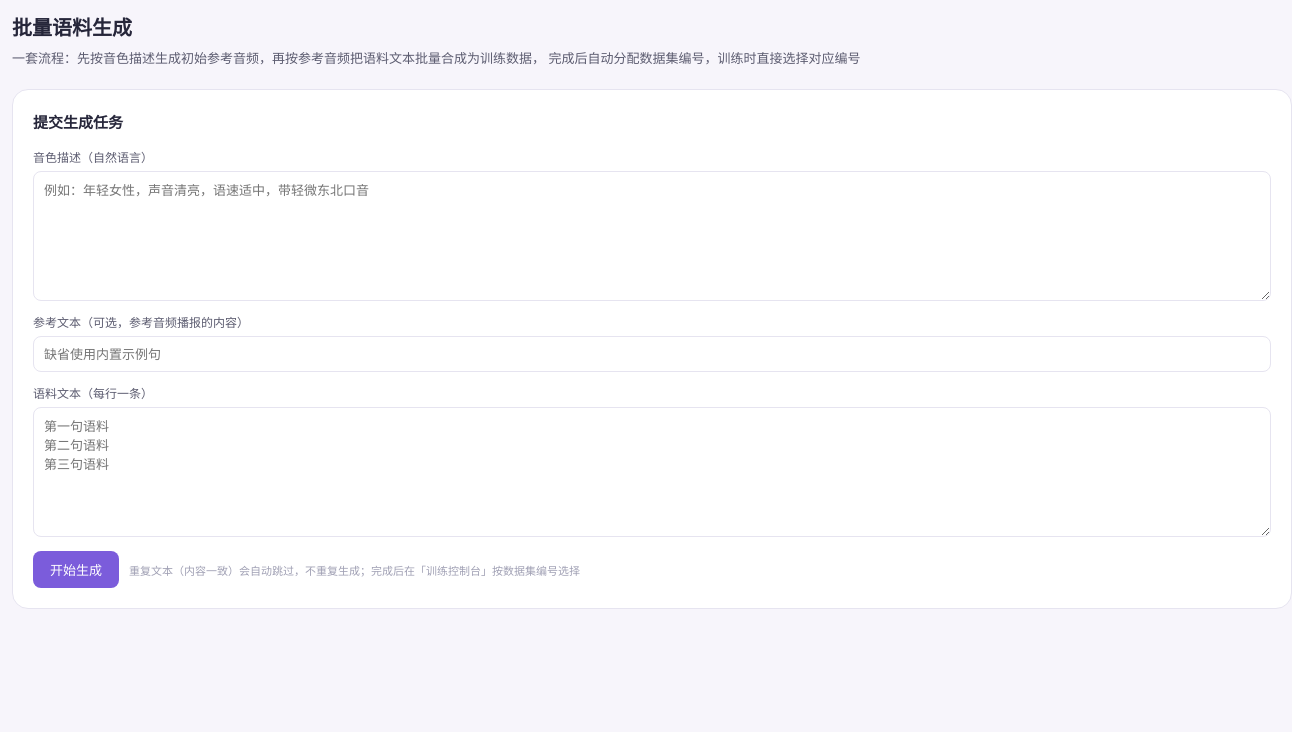
CorpusPage › 校验：未填音色描述或语料文本时不提交并提示
Click the button "开始生成": (76, 570) [33, 551, 119, 588]
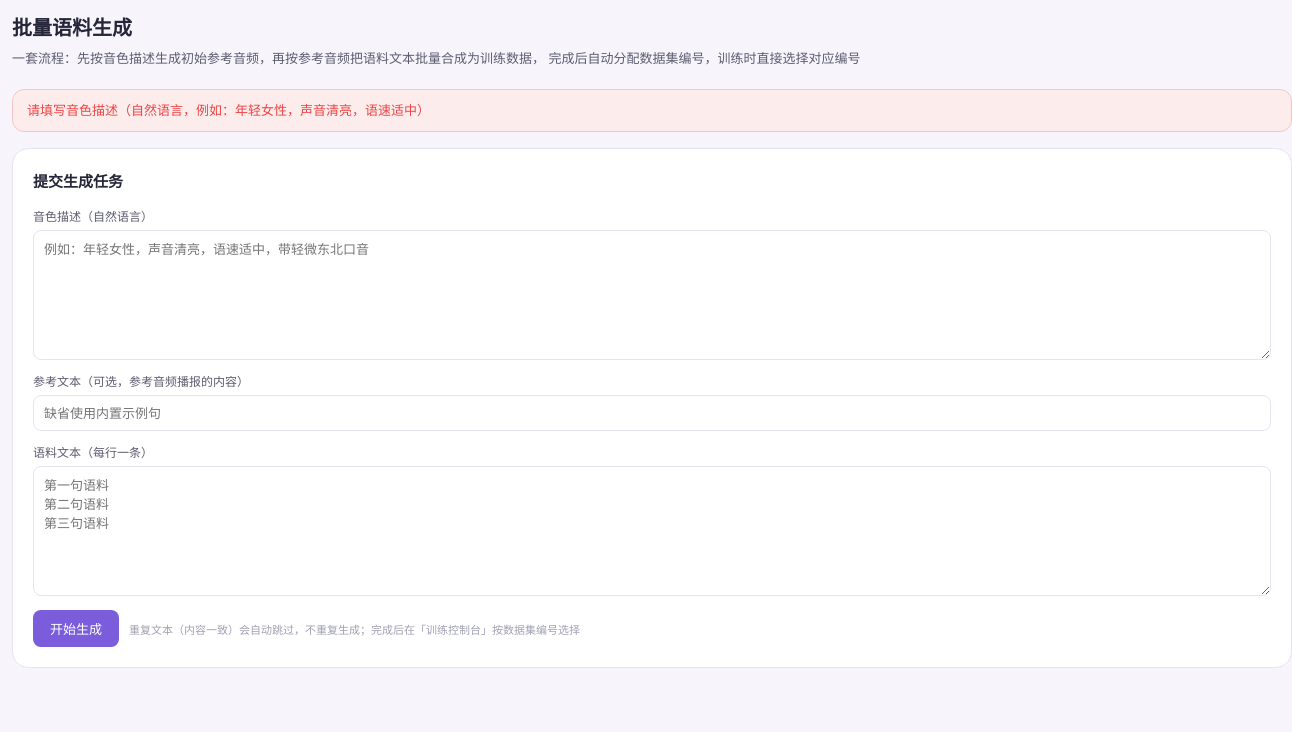
Expected: the text "请填写音色描述（自然语言，例如：年轻女性，声音清亮，语速适中）" is shown, [27, 100, 430, 121]
In the text box labelled "音色描述（自然语言）": (652, 295) [33, 230, 1271, 360], type "清亮女声"
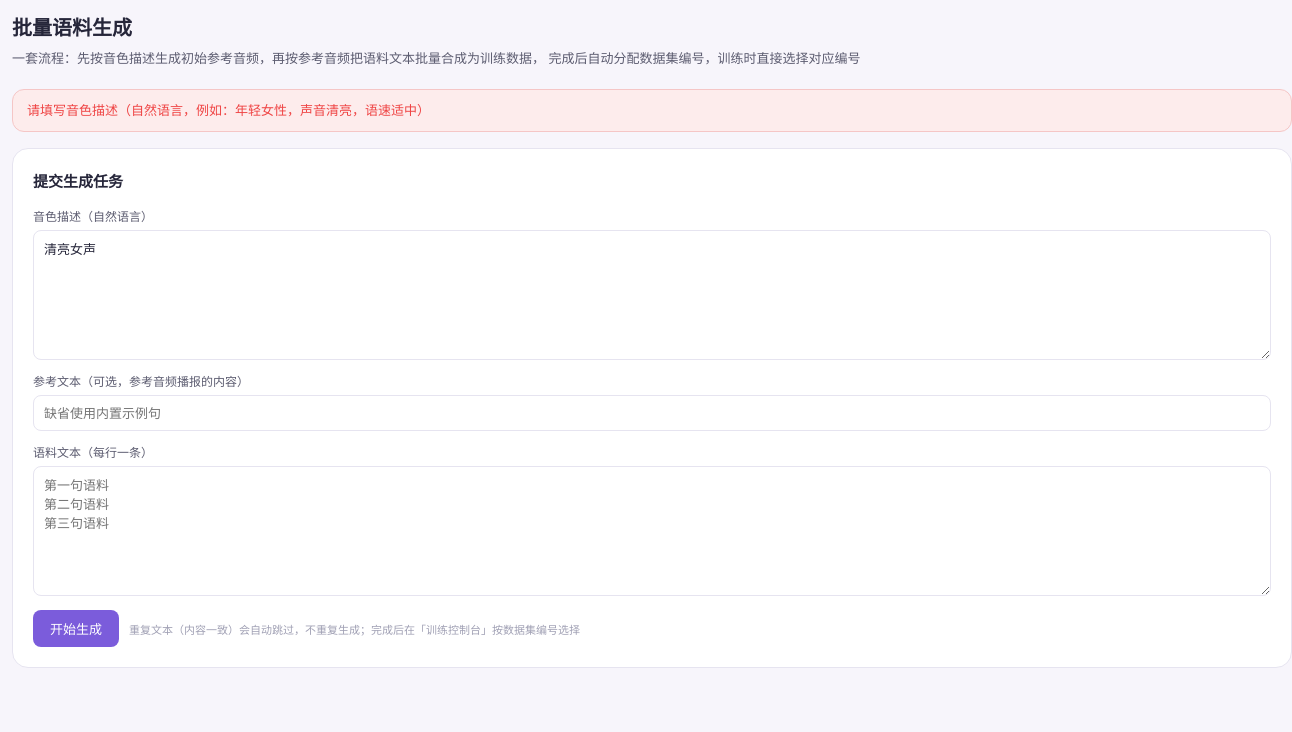
Click the button "开始生成": (76, 629) [33, 610, 119, 647]
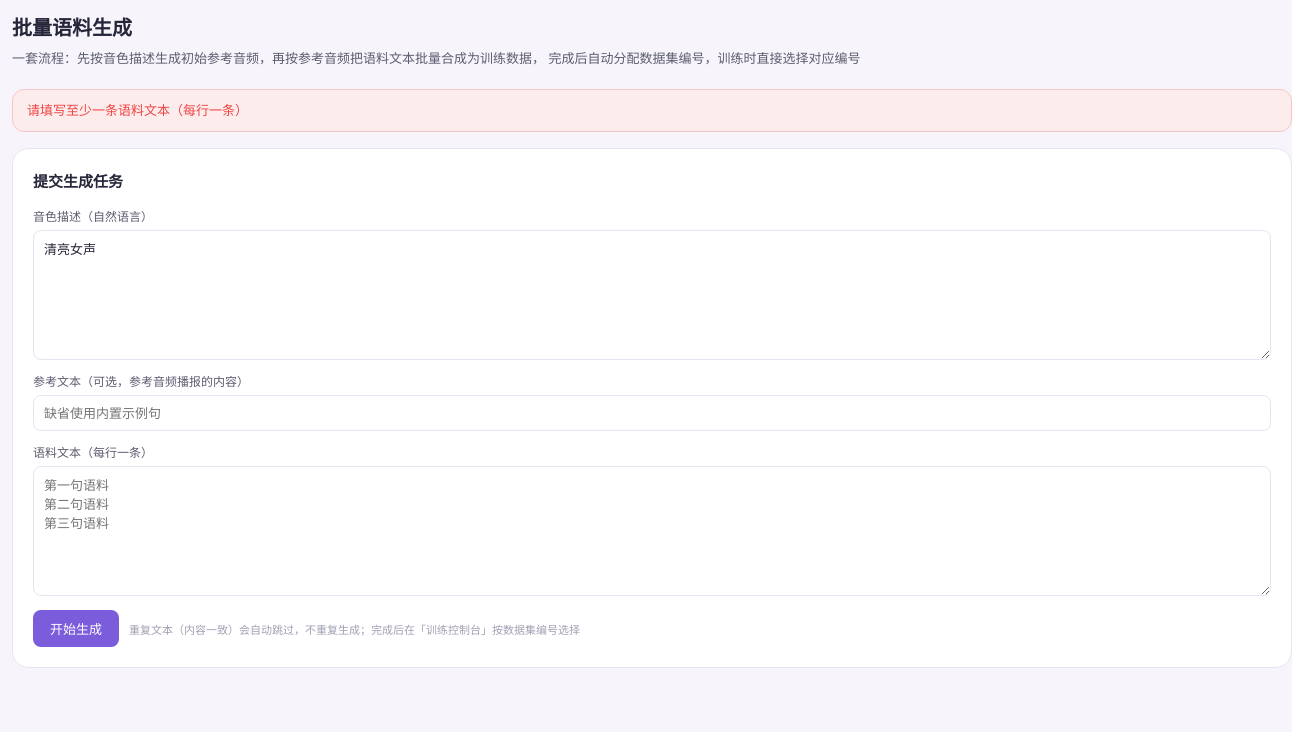
Expected: the text "请填写至少一条语料文本（每行一条）" is shown, [27, 100, 248, 121]
